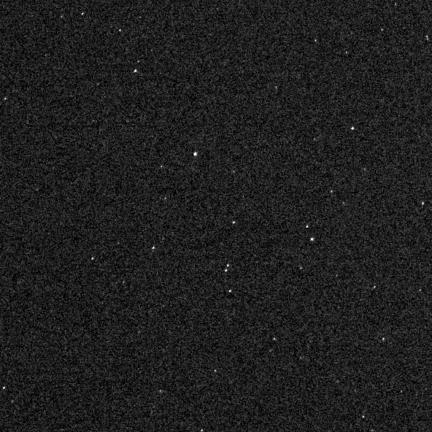blob: (194, 152, 197, 156)
